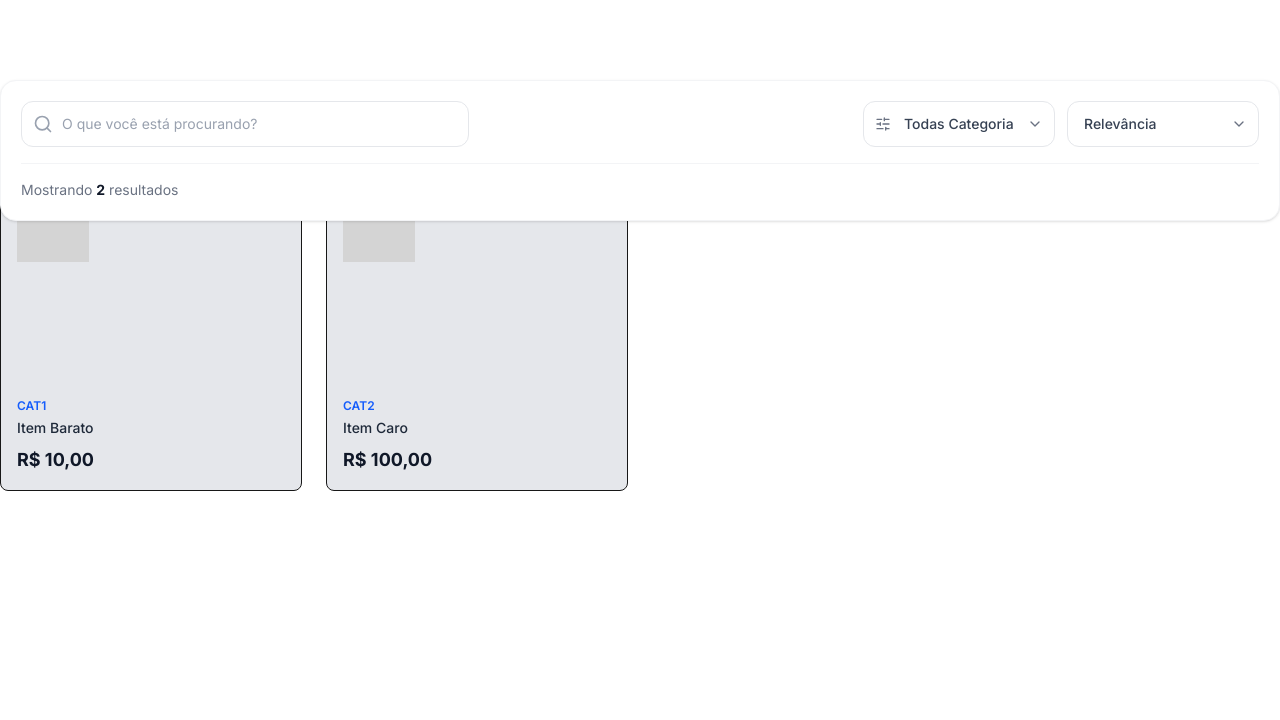
Test case: ProductCatalog Component › deve exibir o estado vazio e permitir limpar filtros pelo botão de ação
Type "Produto Inexistente XYZ" into the field with placeholder "O que você está procurando?".
click(245, 124); type("Produto Inexistente XYZ")  # box left=21, top=101, right=469, bottom=147
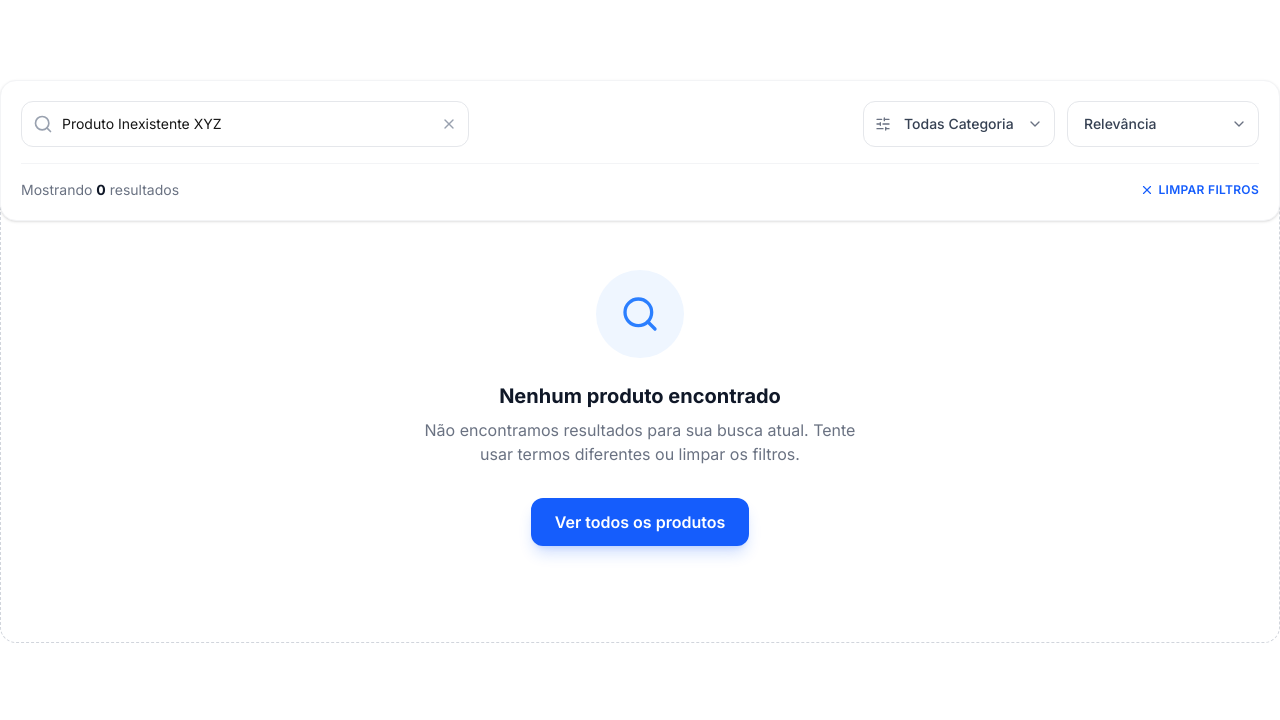
Check: the heading "Nenhum produto encontrado" is shown, box left=499, top=382, right=781, bottom=410
Click the button "Ver todos os produtos".
click(640, 522)  # box left=531, top=498, right=749, bottom=546
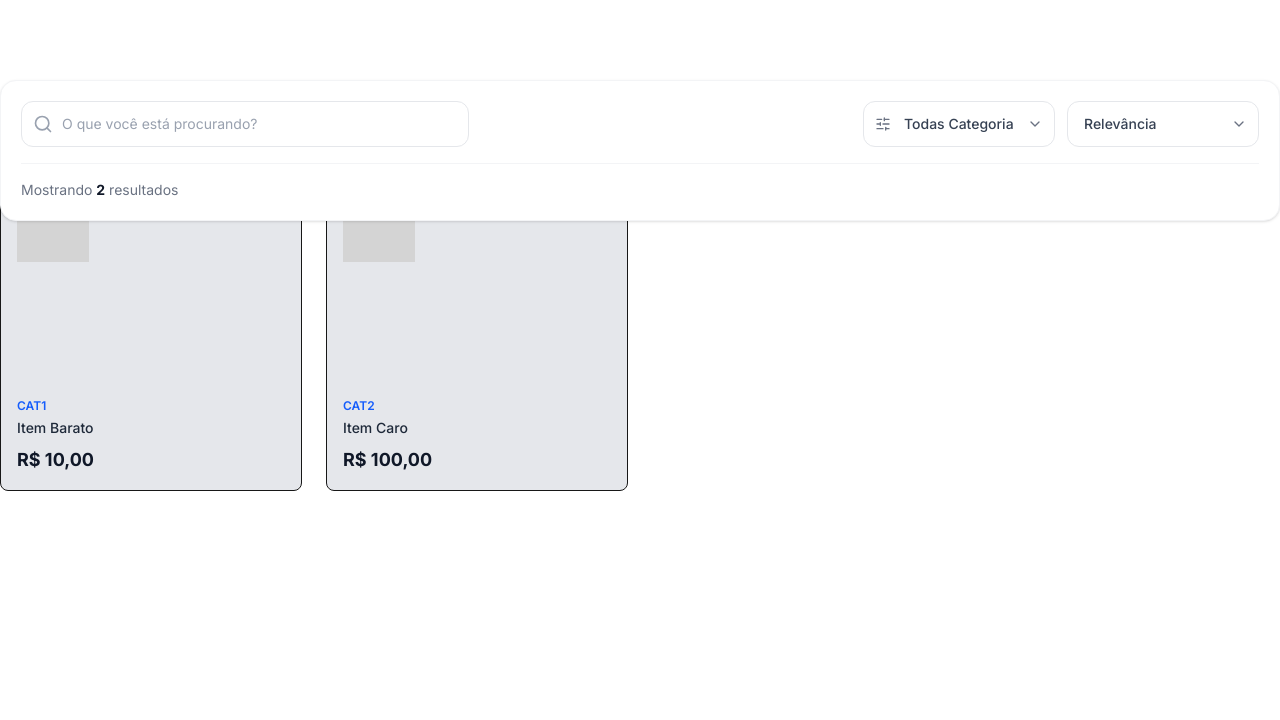
Check: the heading "Item Barato" is shown, box left=17, top=419, right=94, bottom=436
Check: the field with placeholder "O que você está procurando?" is empty, box left=21, top=101, right=469, bottom=147
